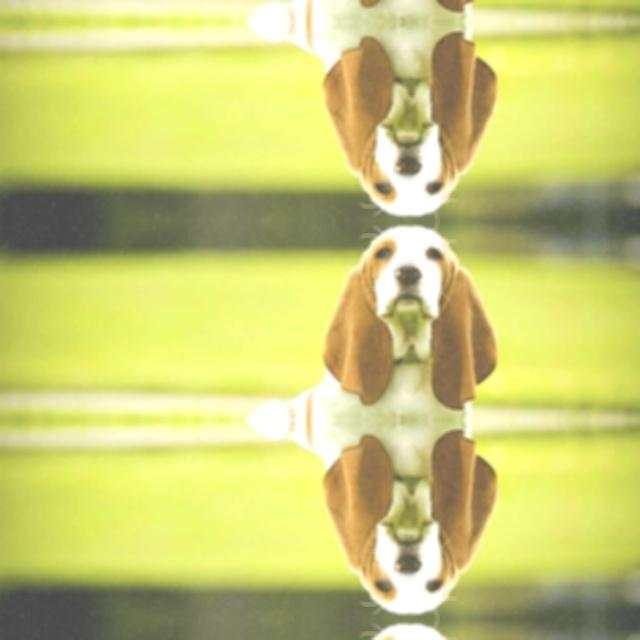dog: (342, 220, 482, 386), (342, 54, 482, 220), (342, 454, 482, 618), (342, 619, 481, 640)
